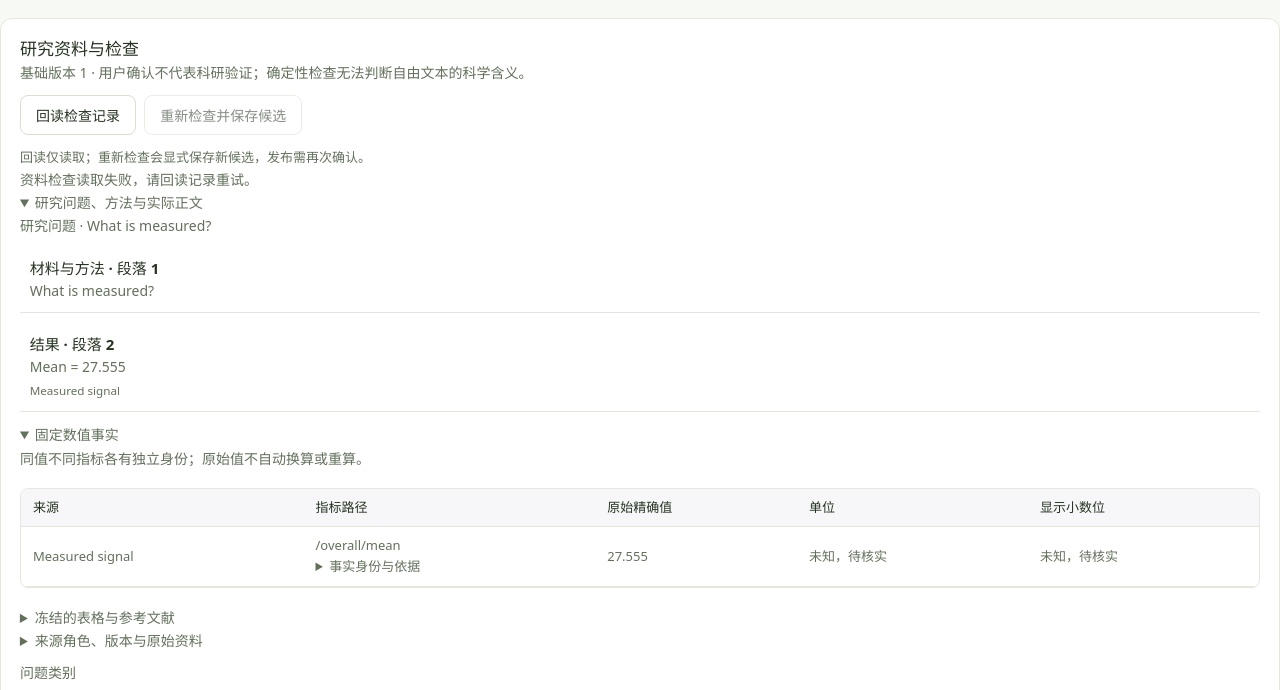
keeps initial read errors recoverable and rejects foreign ownership
expect the message "资料检查读取失败，请回读记录重试。" is shown: met, box [20,170,258,189]
expect the button "查看检查记录 1" is not shown: met
Click the button "回读检查记录". click: (78, 116)
box: [20,96,136,136]
(page scrolled)
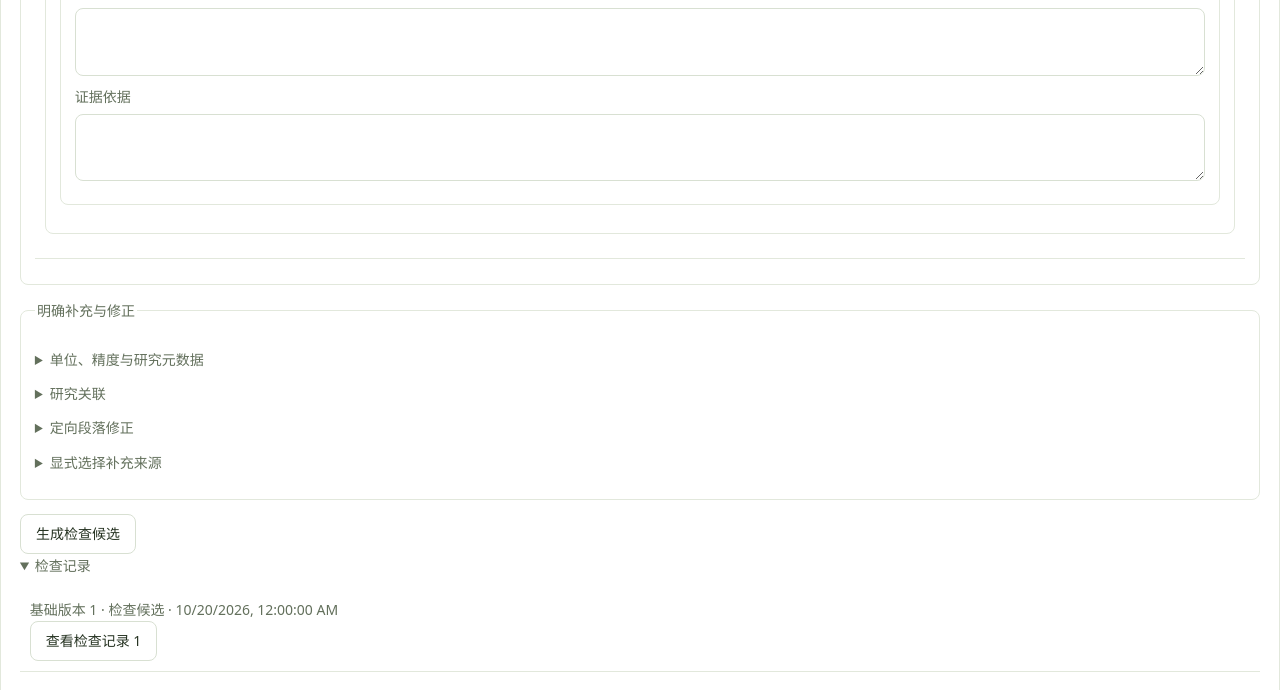
expect the button "查看检查记录 1" is shown: met, box [30,621,157,661]
